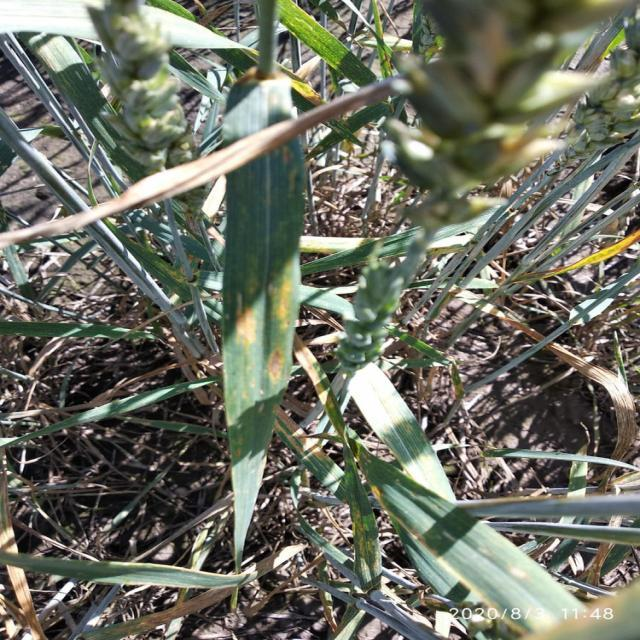wheat-septoria: (369, 459, 640, 640), (222, 137, 311, 543)
